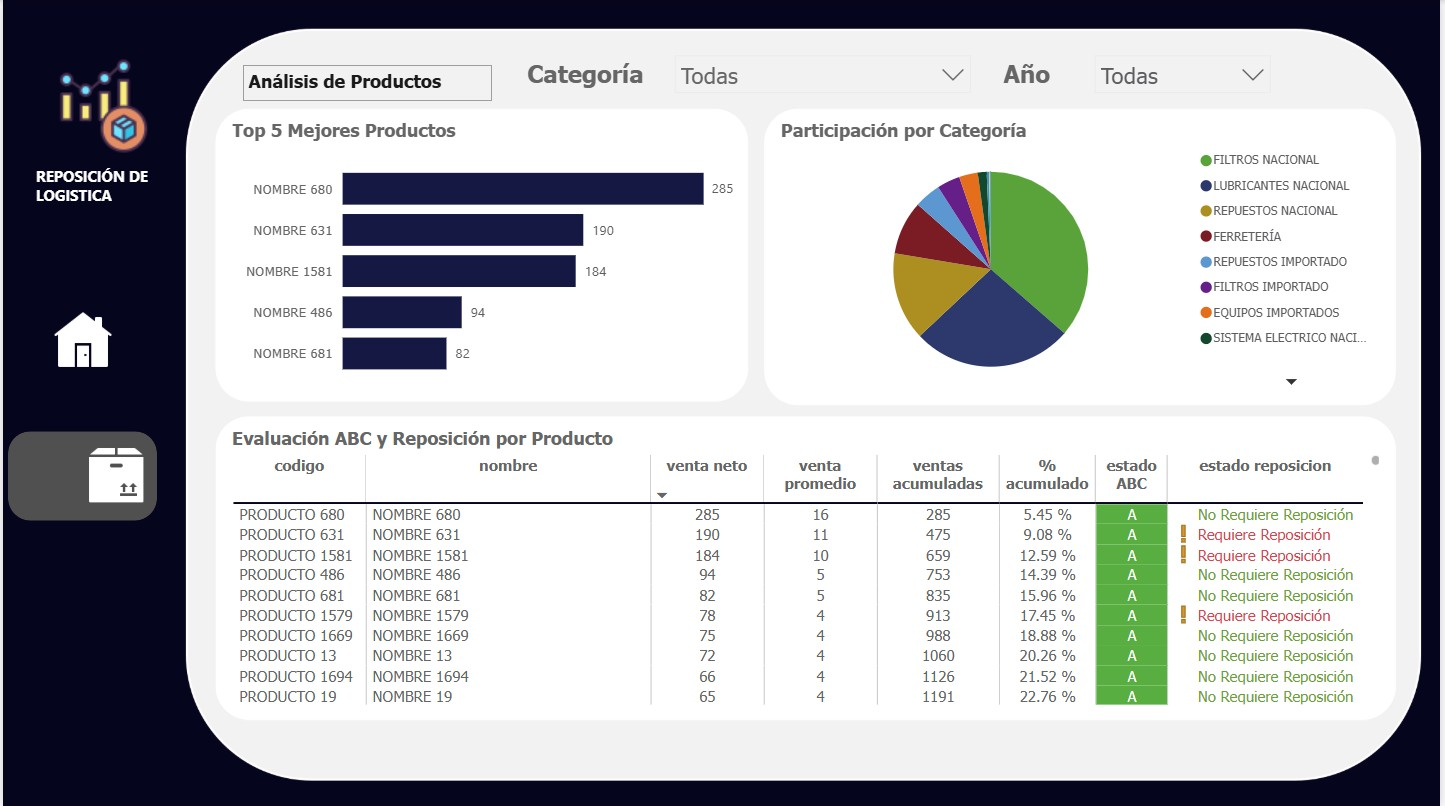

Layout of this report page (visuals, bound fields, positions):
{"tool":"powerbi","page":{"name":"Productos","canvas":[1280,720],"ordinal":1},"visuals":[{"type":"image","box":[158,0,1109.9,720.2],"z":0},{"type":"textbox","box":[885.9,47.6,63.5,41.8],"z":1000},{"type":"textbox","box":[213.6,58.4,222.1,31.3],"z":2000},{"type":"image","box":[41,47.1,96.5,95.3],"z":3000},{"type":"textbox","box":[24.1,142.4,129.1,48.3],"z":4000},{"type":"shape","box":[4.8,383.6,132.7,79.6],"z":5000},{"type":"image","box":[39.8,267.8,62.7,71.2],"z":6000},{"type":"image","box":[65.1,389.7,70,67.6],"z":7000},{"type":"barChart","title":"Top 5 Mejores Productos","fields":{"Category":["dimproducto.nombre"],"Y":["dimcategoria.Venta Neto"]},"box":[189.4,96.5,474.1,260.6],"z":8000},{"type":"pieChart","title":"Participación por Categoría","fields":{"Category":["dimcategoria.categoria"],"Y":["dimcategoria.Venta Neto"]},"box":[678,96.5,562.2,264.2],"z":9000},{"type":"tableEx","title":"Evaluación ABC y Reposición por Producto","fields":{"Values":["dimproducto.codigo","dimproducto.nombre","dimcategoria.Venta Neto","dimcategoria.Venta Promedio","dimcategoria.Ventas Acumuladas","dimcategoria.% Acumulado","dimcategoria.Estado ABC","dimcategoria.Estado Reposicion"]},"box":[189.4,370.4,1050.8,270.2],"z":10000},{"type":"slicer","fields":{"Values":["dimfechas.Año"]},"box":[962.3,39,177.5,60.6],"z":11000},{"type":"textbox","box":[461.7,47.6,125.5,41.8],"z":12000},{"type":"slicer","fields":{"Values":["dimproducto.categoria"]},"box":[587.2,39,284.2,50.5],"z":13000}]}

Visuals, with their boxes on the page's 1280x720 design canvas (x1, y1, x2, y2). These are canvas units, not pixel positions in the 1445x806 screenshot, which may show the page scaled, cropped or inside an application window:
image: [left=158, top=0, right=1268, bottom=720]
textbox: [left=886, top=48, right=949, bottom=89]
textbox: [left=214, top=58, right=436, bottom=90]
image: [left=41, top=47, right=138, bottom=142]
textbox: [left=24, top=142, right=153, bottom=191]
shape: [left=5, top=384, right=138, bottom=463]
image: [left=40, top=268, right=102, bottom=339]
image: [left=65, top=390, right=135, bottom=457]
"Top 5 Mejores Productos" barChart: [left=189, top=96, right=664, bottom=357]
"Participación por Categoría" pieChart: [left=678, top=96, right=1240, bottom=361]
"Evaluación ABC y Reposición por Producto" tableEx: [left=189, top=370, right=1240, bottom=641]
slicer - dimfechas.Año: [left=962, top=39, right=1140, bottom=100]
textbox: [left=462, top=48, right=587, bottom=89]
slicer - dimproducto.categoria: [left=587, top=39, right=871, bottom=90]
